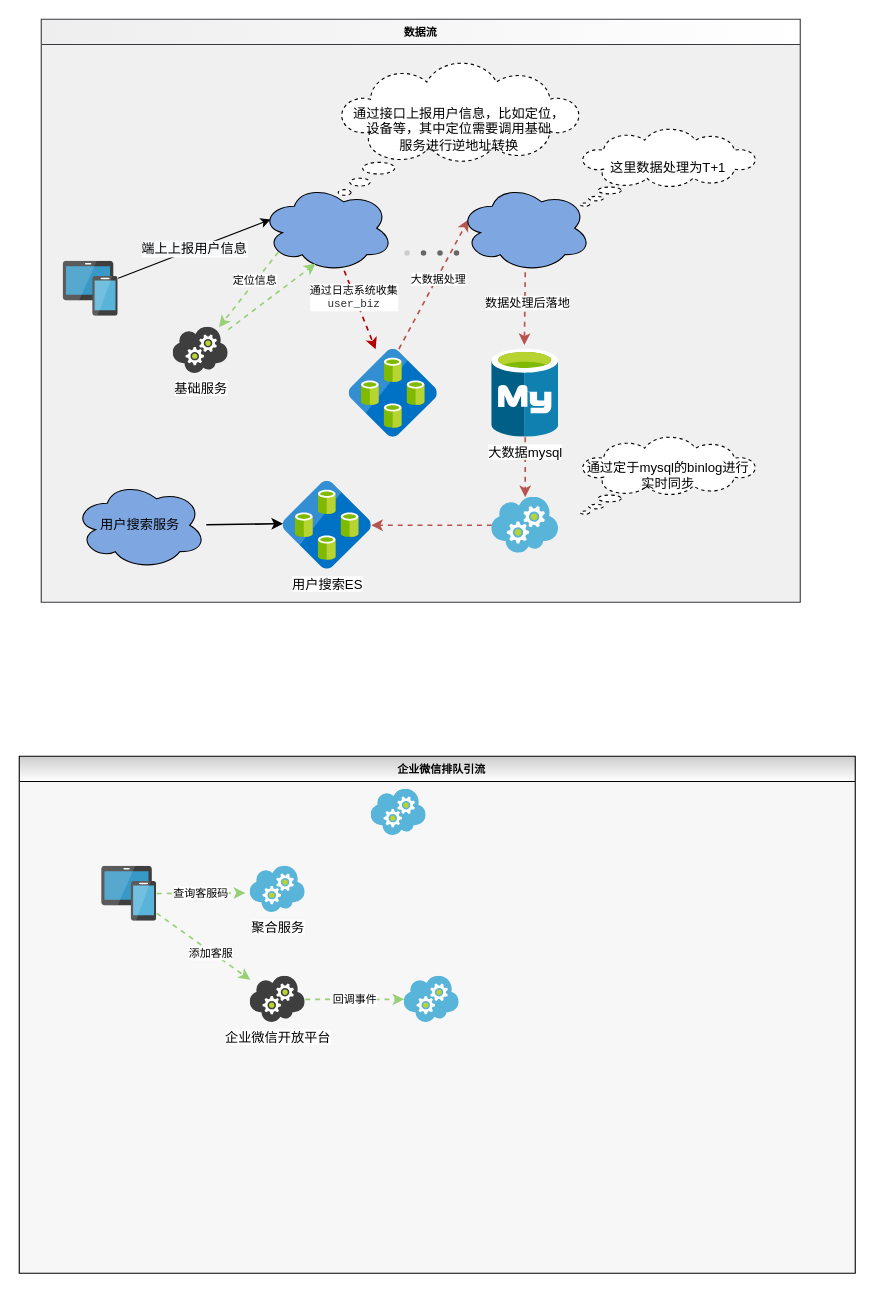
Some shapes in this 875 by 1293 pixel diagram are drawn without their labels. The centre of each missing label's shape, as x and y in pixels:
"go-mysql-es同步插件" goes at (x=524, y=525).
"企业微信" goes at (x=431, y=999).
"大数据服务" goes at (x=524, y=227).
"排队服务" goes at (x=398, y=812).
"日志系统es" goes at (x=393, y=393).
"用户系统" goes at (x=326, y=227).
